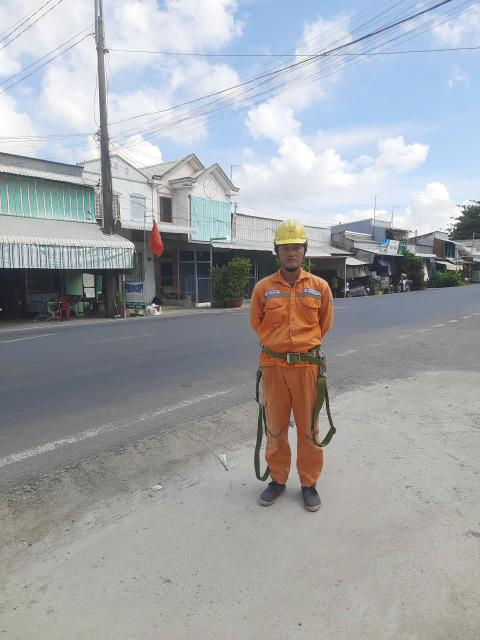harness: (248, 334, 341, 373)
helmet: (267, 212, 315, 251)
shoes: (299, 470, 330, 519), (249, 476, 293, 509)
